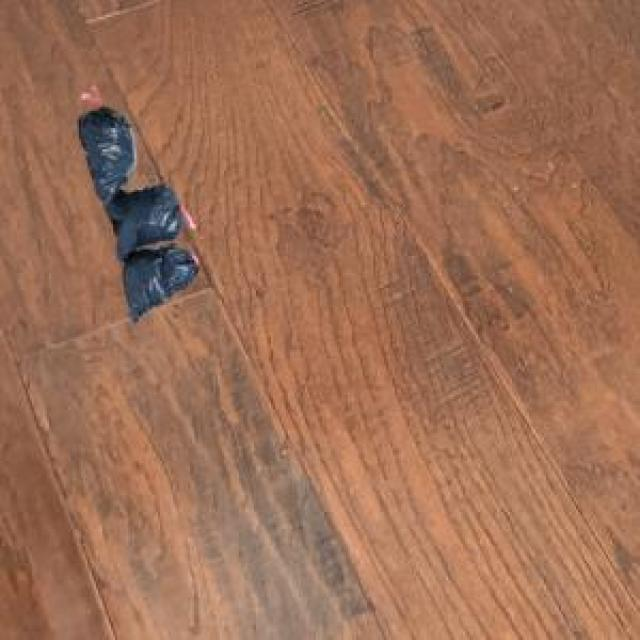miscellaneous trash: (75, 102, 194, 320)
